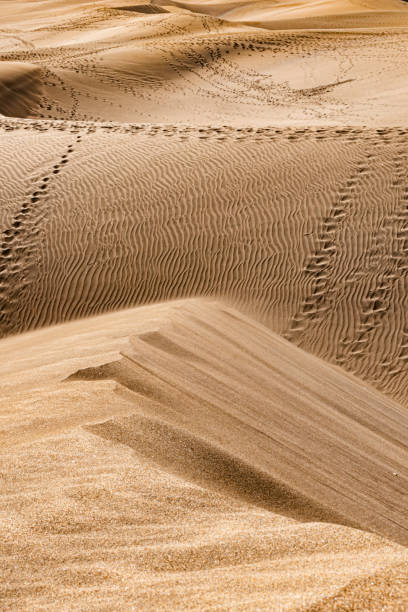animal_foot_print: (284, 150, 373, 342), (0, 131, 81, 336), (339, 146, 407, 368), (388, 134, 407, 284)
